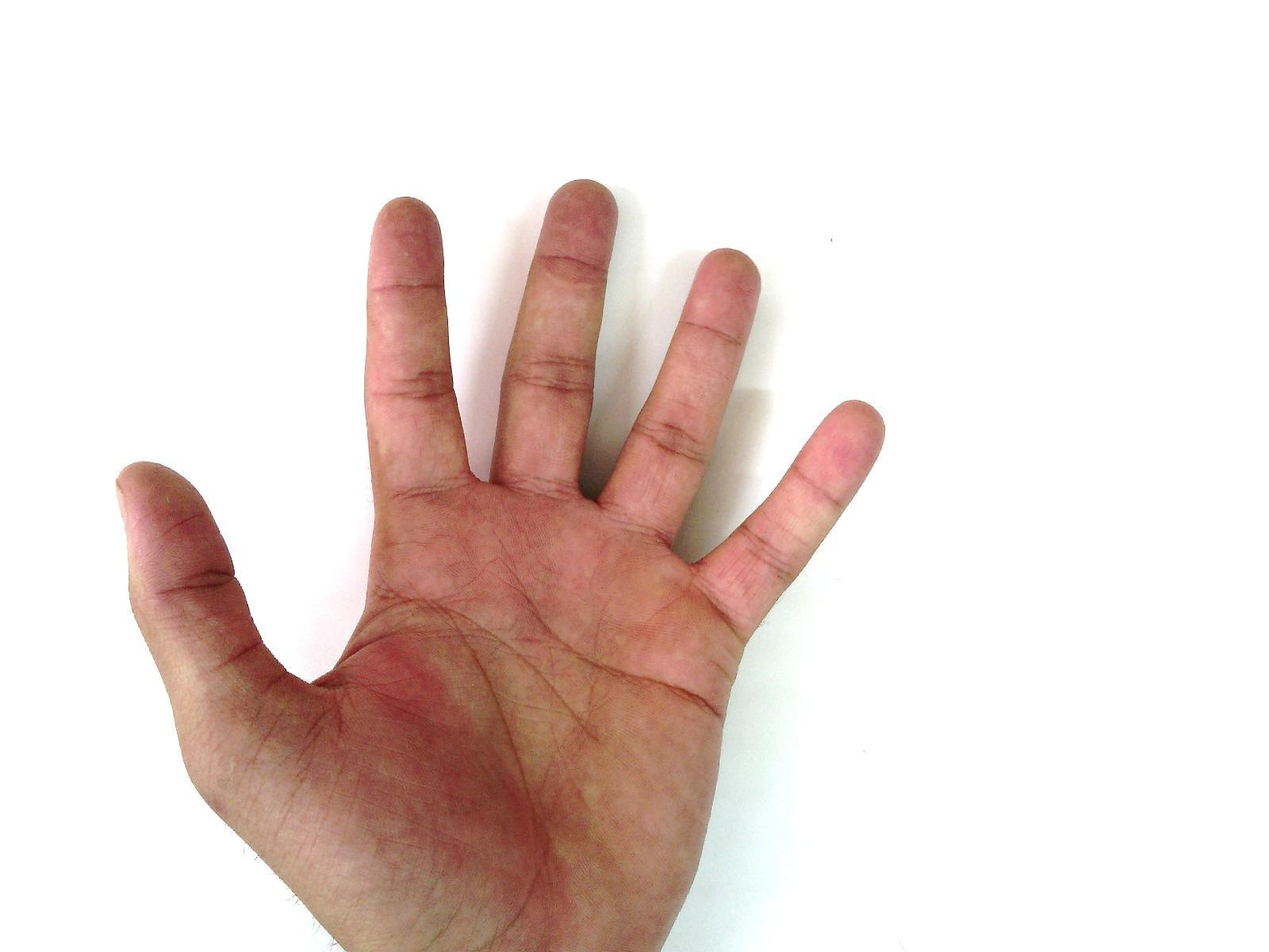open_palm: (113, 178, 889, 952)
